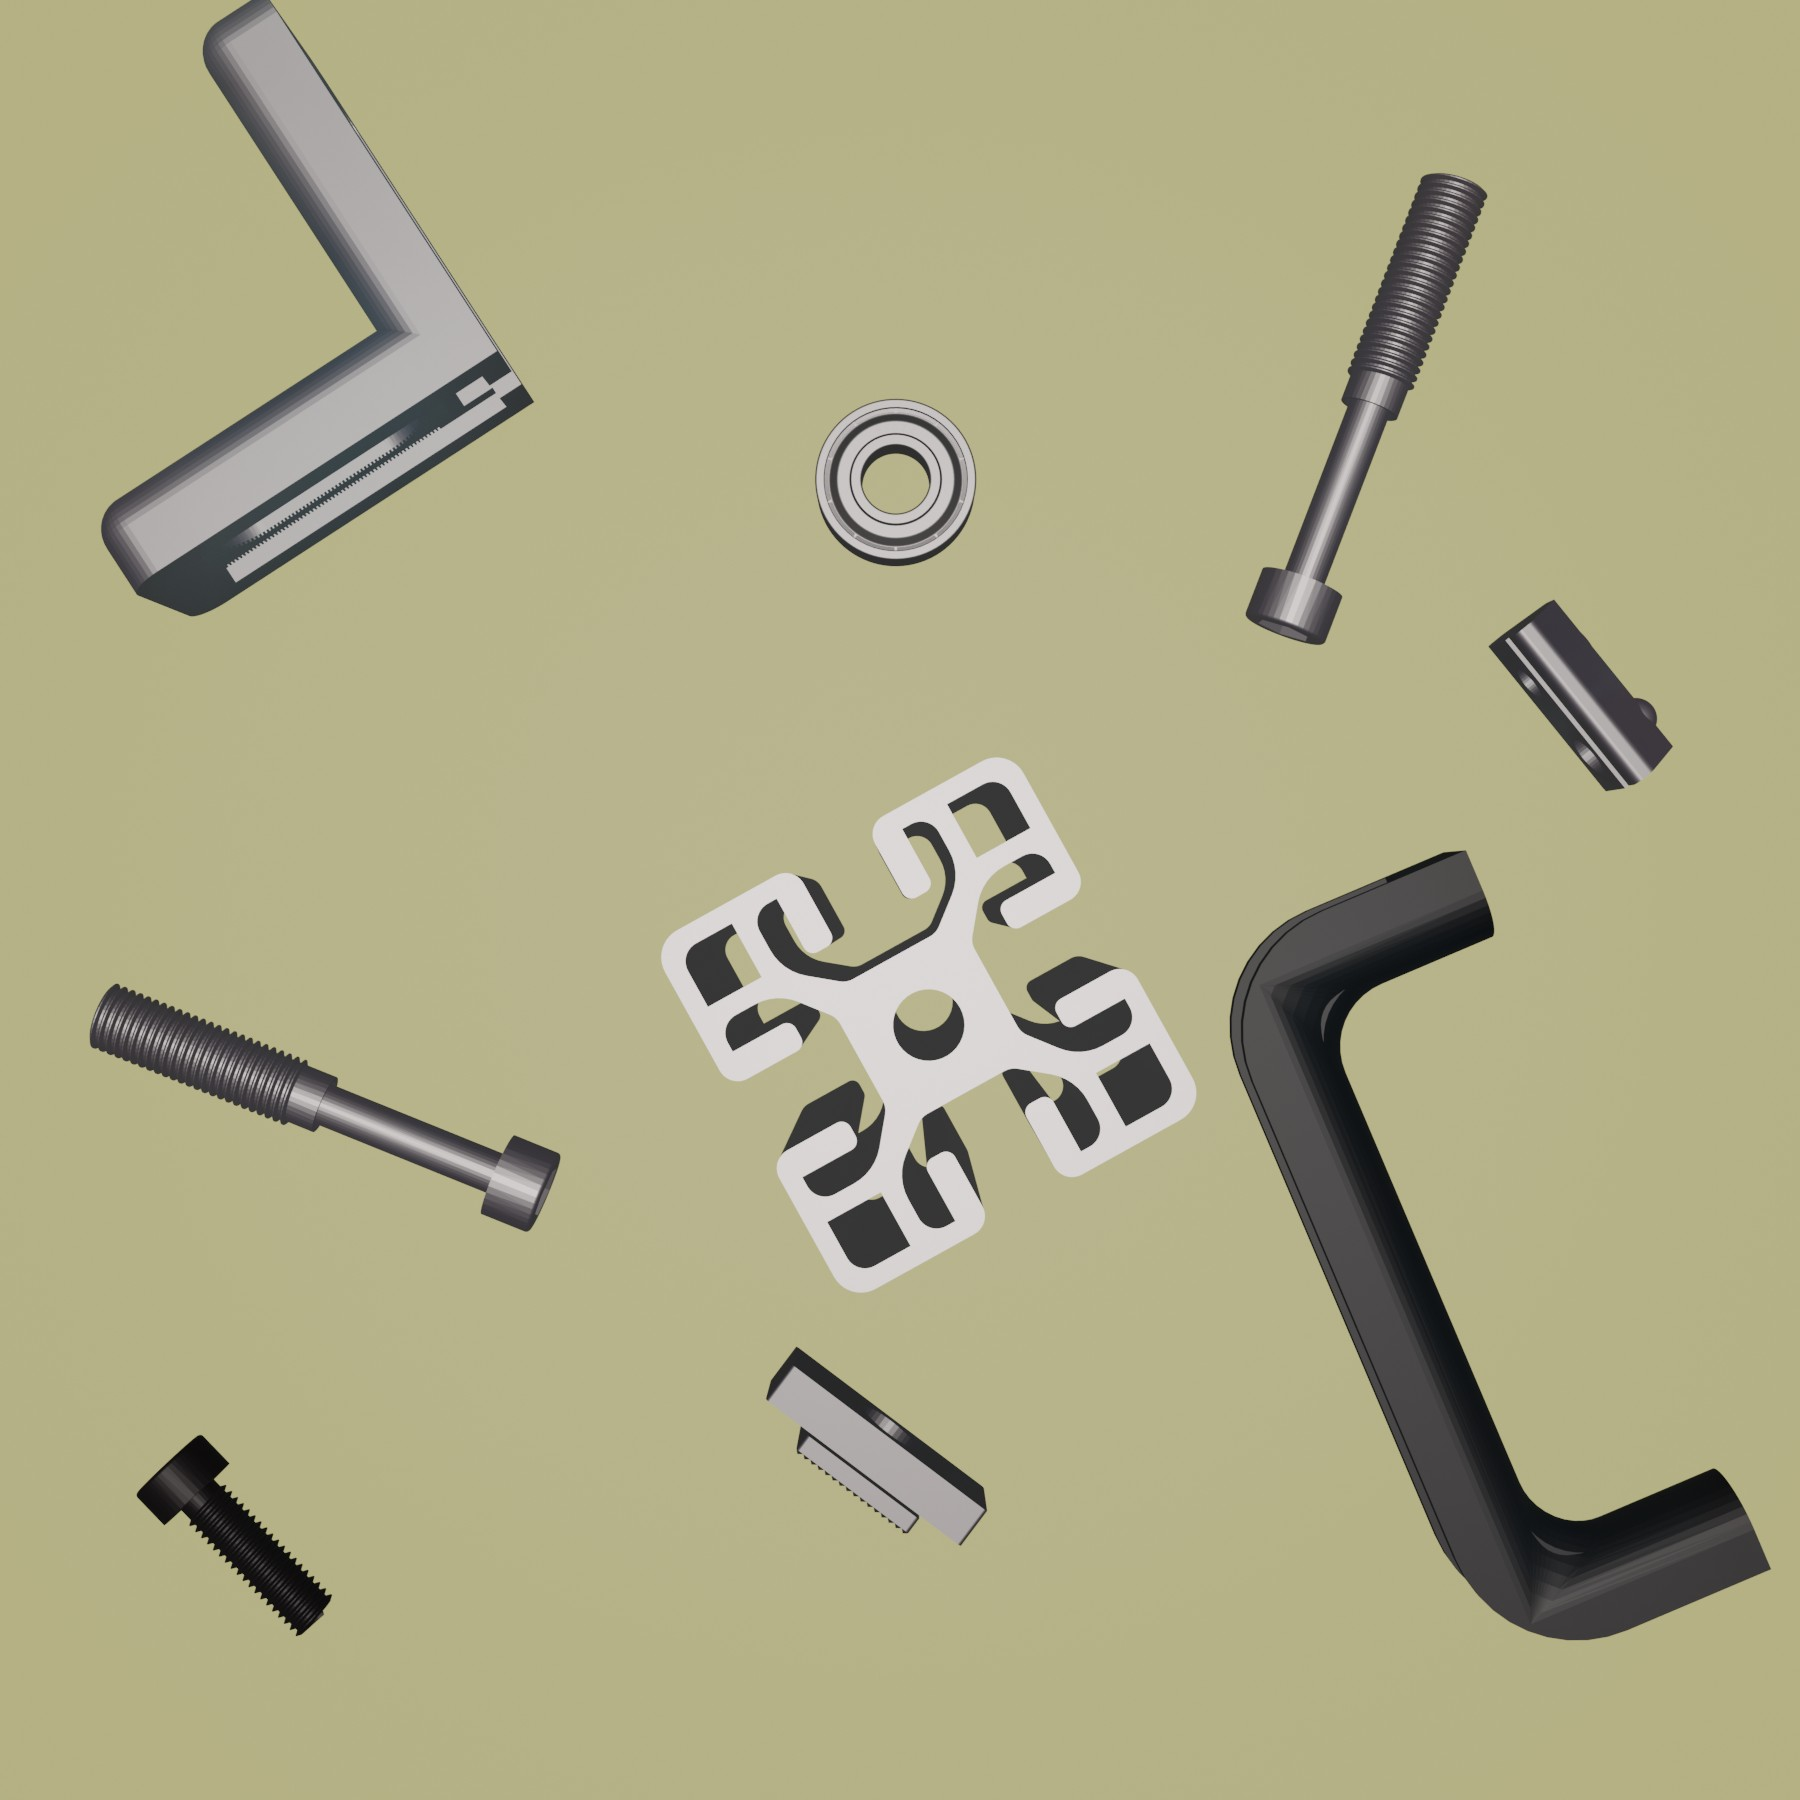Ball Bearing: (813, 396, 977, 565)
Multiwinkel: (658, 755, 1198, 1301), (101, 2, 536, 620)
Pull Handle: (1228, 851, 1770, 1642)
Shoulder Socket Head Cap Screw: (86, 982, 562, 1235), (1243, 168, 1488, 649)
Socket Head Cap Screw: (134, 1431, 331, 1638)
T Nut Square: (763, 1338, 991, 1548)
T Spring Nut: (1487, 595, 1676, 791)
